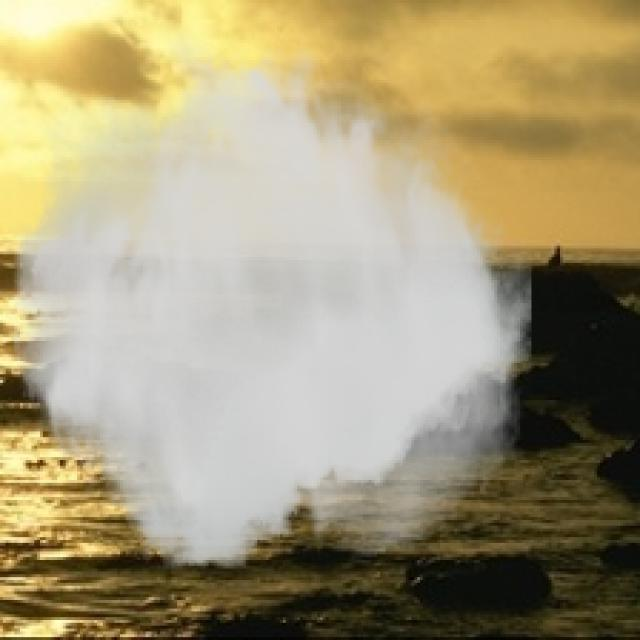smoke: (6, 29, 531, 568)
